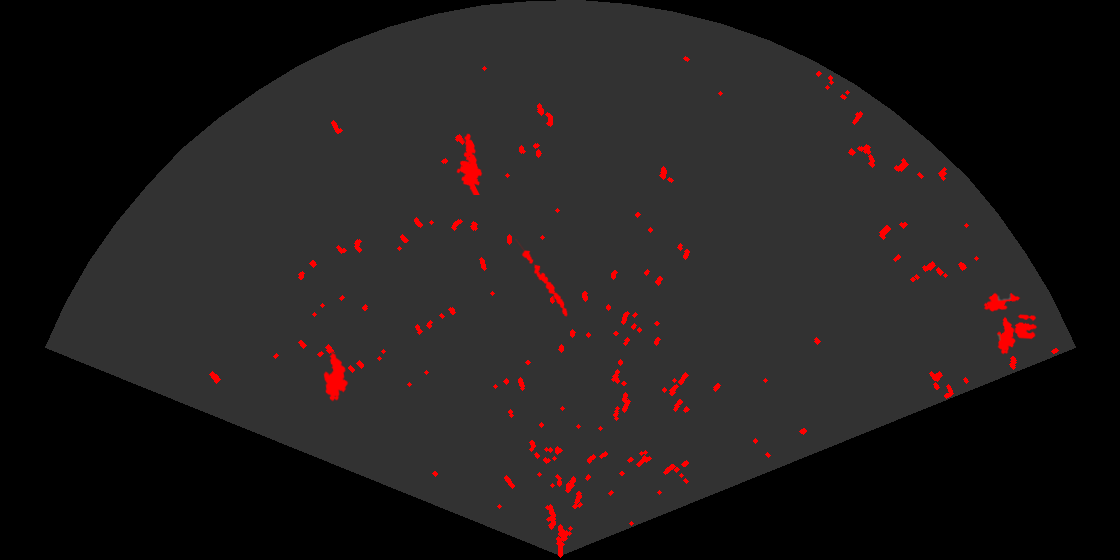AUV: (322, 351, 350, 403), (995, 315, 1017, 356), (982, 291, 1022, 313)
ball: (1012, 313, 1039, 341)
chain: (515, 239, 569, 318)
frogman: (455, 132, 484, 195)
